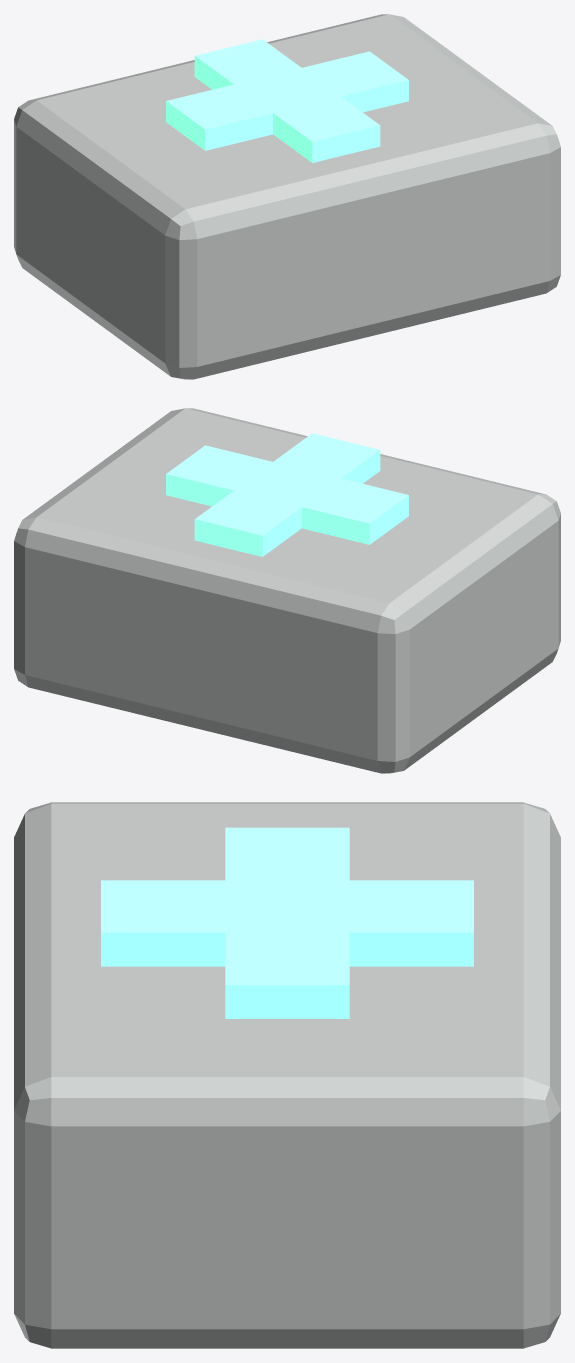
Rendered from pickup_medkit.glb.
The picture shows the model from 3 angles, top to bottom: view 1: azimuth 30°, elevation 25°; view 2: azimuth 150°, elevation 25°; view 3: azimuth 270°, elevation 25°; orthographic projection. The views are drawn at different scales.
Visible parts, largest first — view 1: Case, CrossV, CrossH; view 2: Case, CrossH, CrossV; view 3: Case, CrossV, CrossH.
Boxes of the visible parts, <box> form: Case: <box>14,14,560,379</box>; CrossV: <box>194,39,380,162</box>; CrossH: <box>166,51,408,150</box>; Case: <box>14,408,560,773</box>; CrossH: <box>166,445,408,544</box>; CrossV: <box>194,433,380,556</box>; Case: <box>14,802,560,1348</box>; CrossV: <box>101,880,473,966</box>; CrossH: <box>225,827,349,1018</box>.
Size of the model in its own units: 0.58 by 0.27 by 0.44.
